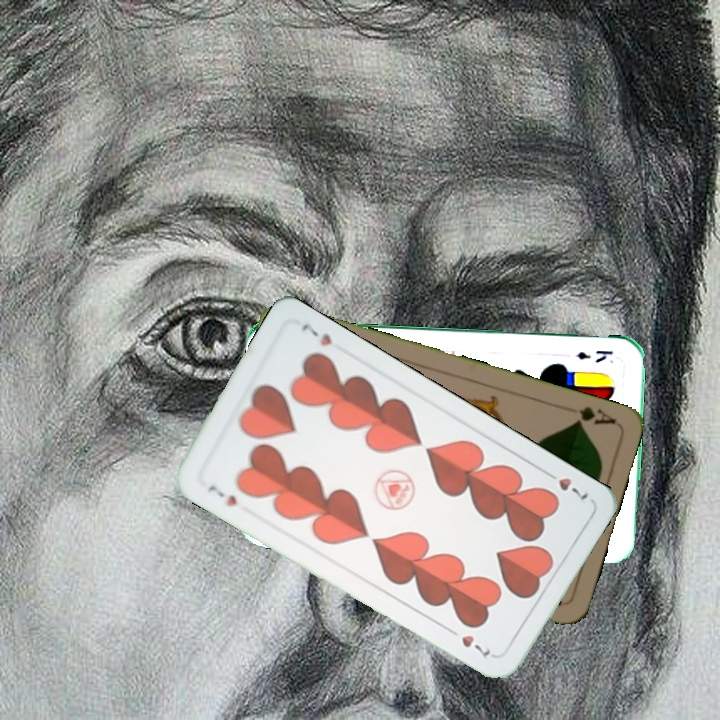EK: (572, 346, 616, 366)
GA: (569, 402, 619, 428)
H7: (540, 466, 592, 506), (202, 481, 240, 510)
